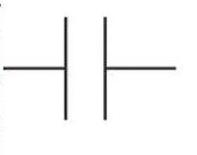Capacitor: (43, 7, 130, 132)
